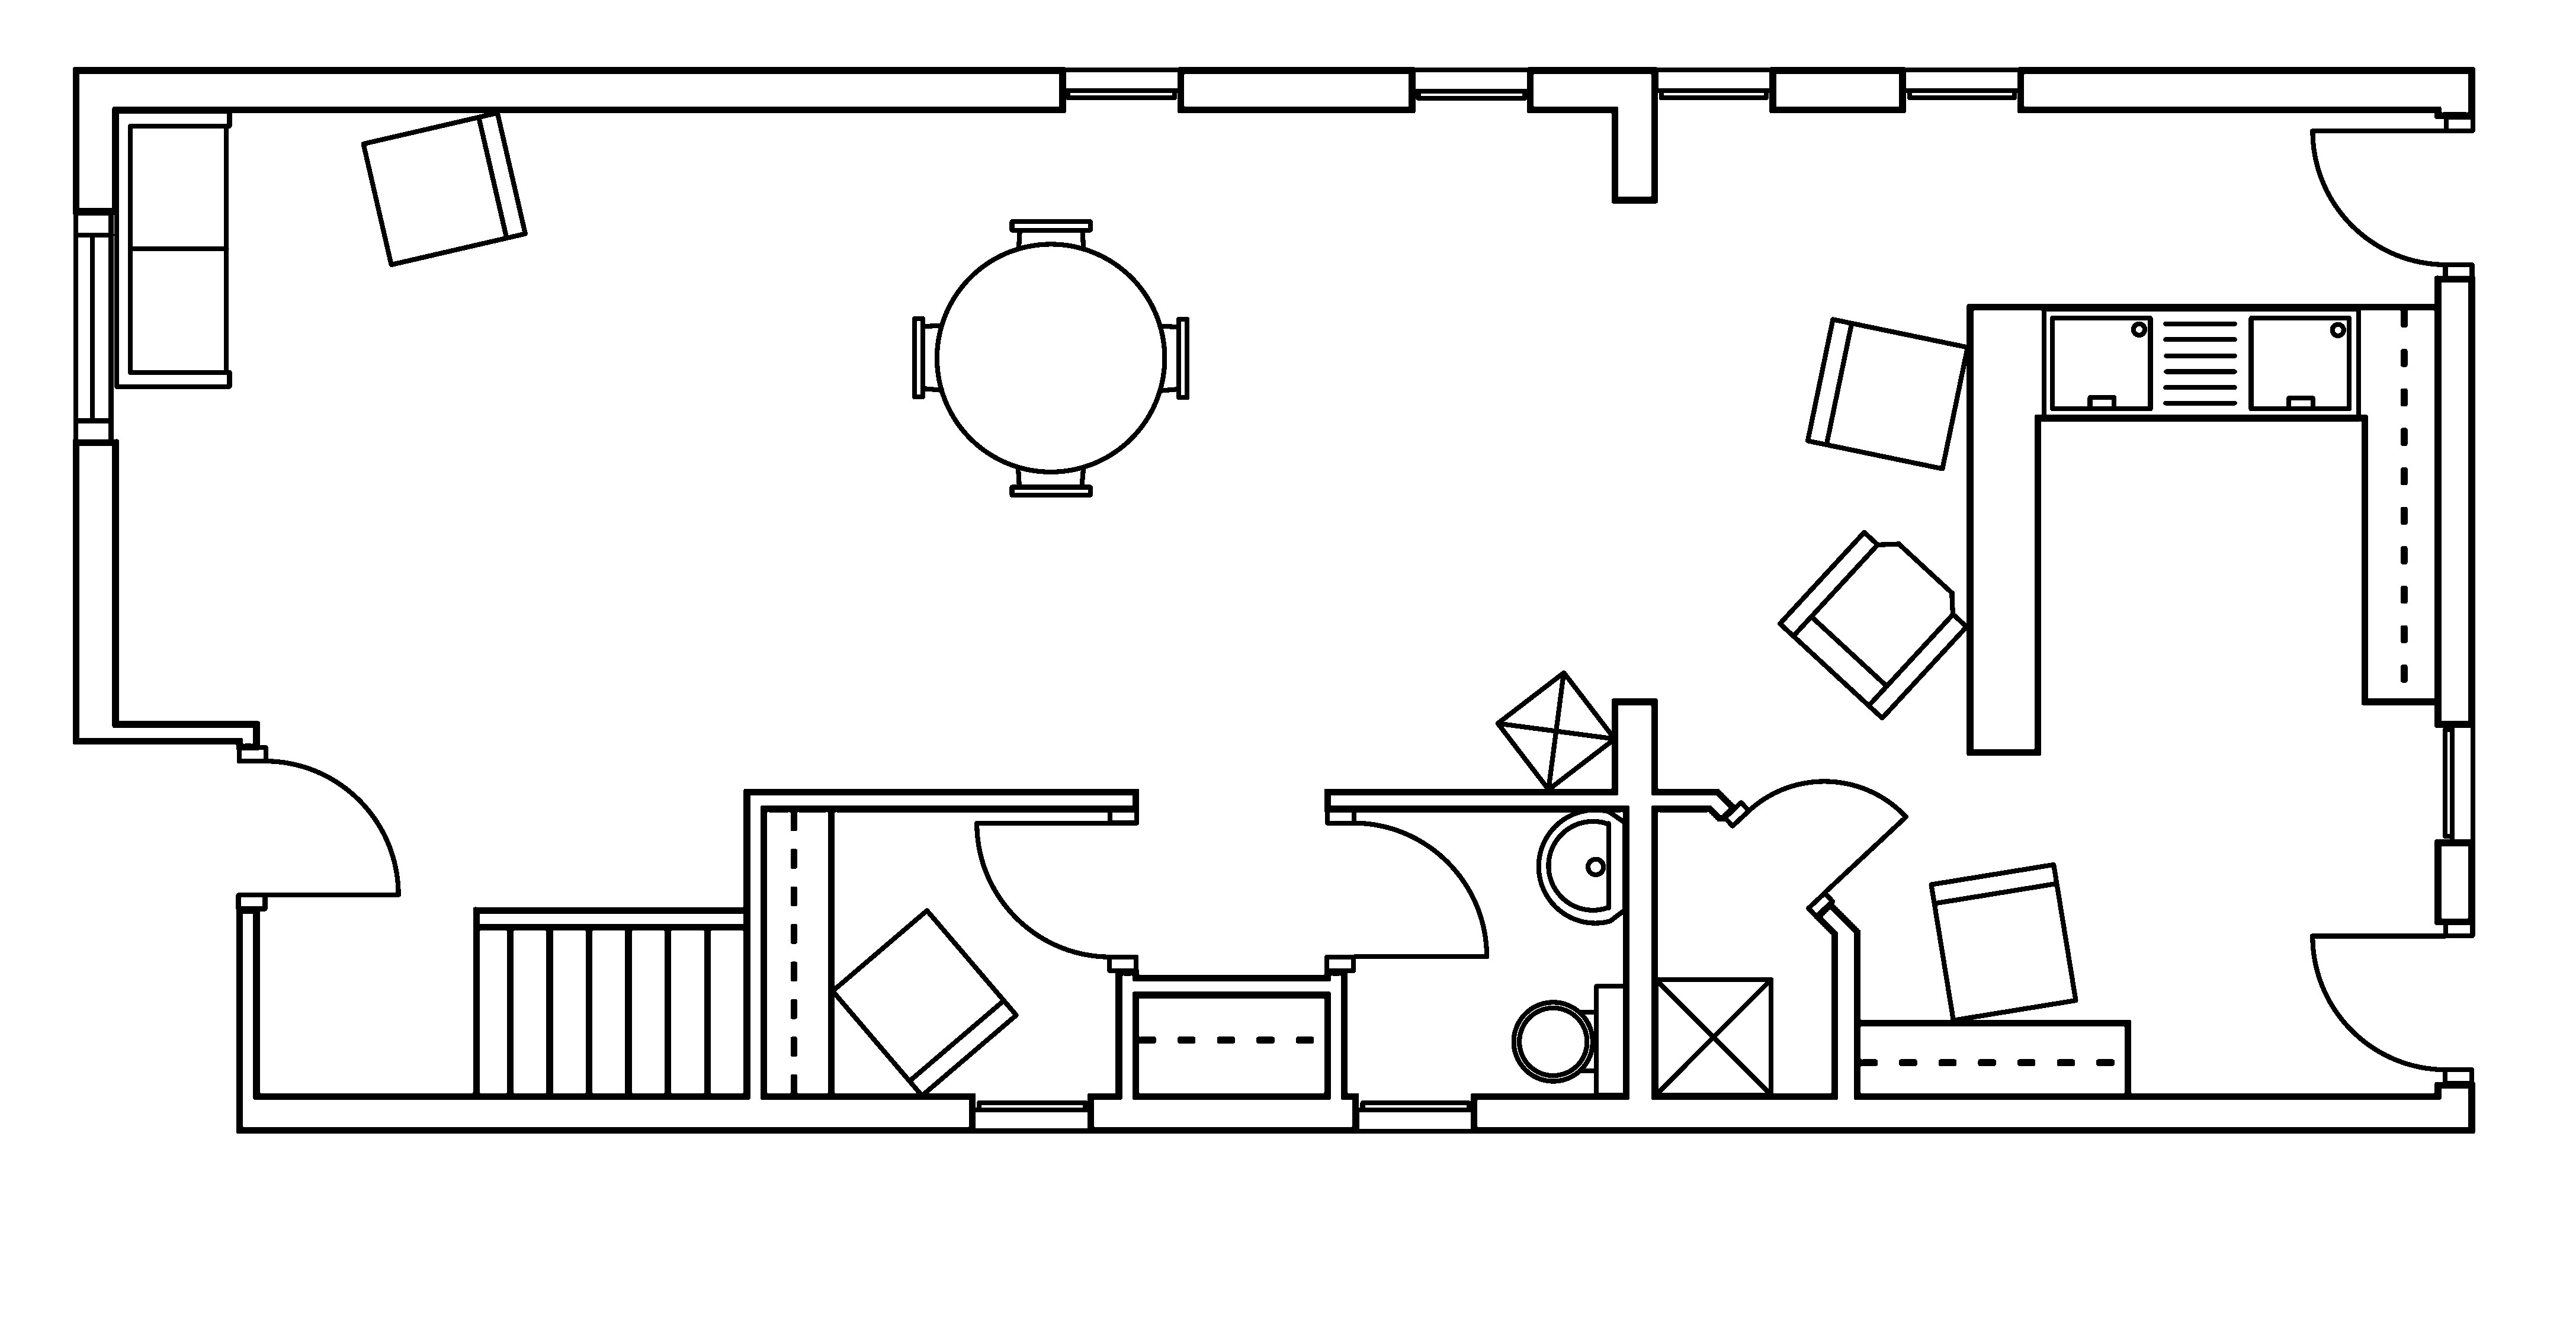armchair: (1776, 528, 1969, 720)
coffee_table: (1493, 670, 1618, 792), (1651, 976, 1774, 1097)
large_sink: (1512, 983, 1628, 1097)
large_sofa: (113, 108, 232, 389)
round_table: (911, 219, 1190, 498)
small_sink: (1535, 808, 1628, 925)
small_sofa: (829, 907, 1019, 1099), (360, 109, 528, 268), (1804, 316, 1971, 471), (1927, 861, 2078, 1023)
twin_sink: (2040, 305, 2361, 421)
